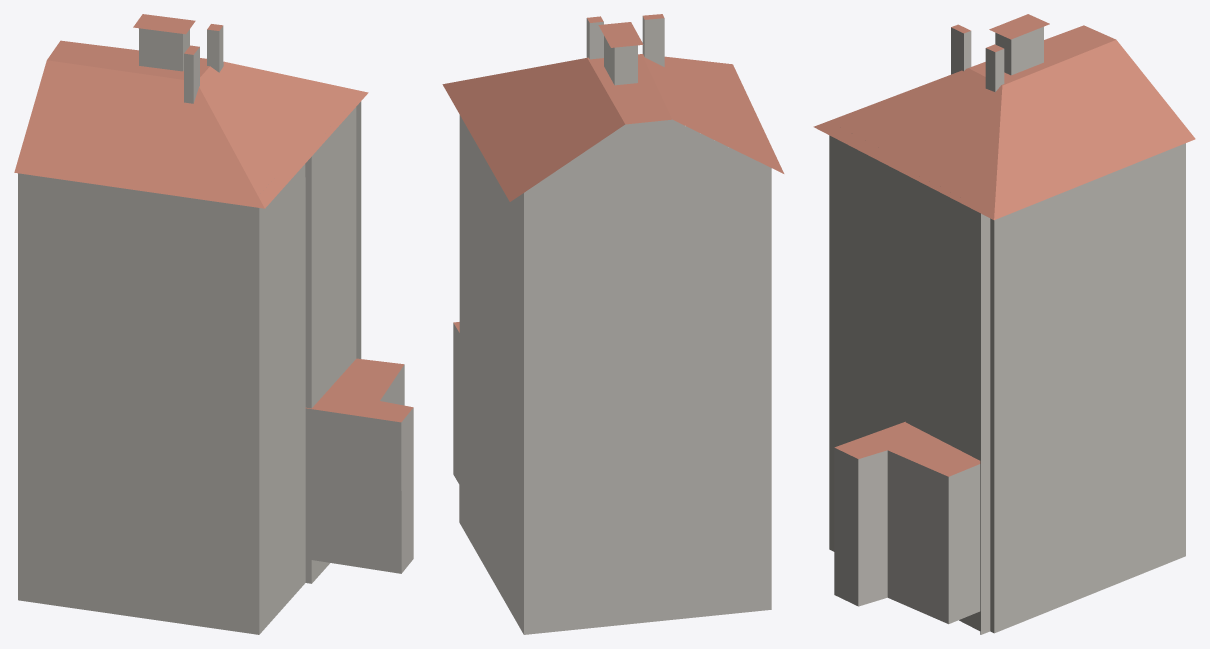
The picture shows the model from 3 angles, left to right: view 1: azimuth 30°, elevation 25°; view 2: azimuth 150°, elevation 25°; view 3: azimuth 270°, elevation 25°; orthographic projection. The views are drawn at different scales.
Visible parts, largest first — view 1: swisstopo:swissbuildings3d:fee74c5b-9b0c-463d-a5bd-84de73ad6; view 2: swisstopo:swissbuildings3d:fee74c5b-9b0c-463d-a5bd-84de73ad6; view 3: swisstopo:swissbuildings3d:fee74c5b-9b0c-463d-a5bd-84de73ad6.
Boxes of the visible parts, left/top/right/bottom form: swisstopo:swissbuildings3d:fee74c5b-9b0c-463d-a5bd-84de73ad6: left=14, top=14, right=413, bottom=634; swisstopo:swissbuildings3d:fee74c5b-9b0c-463d-a5bd-84de73ad6: left=442, top=14, right=784, bottom=634; swisstopo:swissbuildings3d:fee74c5b-9b0c-463d-a5bd-84de73ad6: left=813, top=14, right=1195, bottom=634.
Size of the model in its own units: 22.09 by 31.55 by 20.88.
